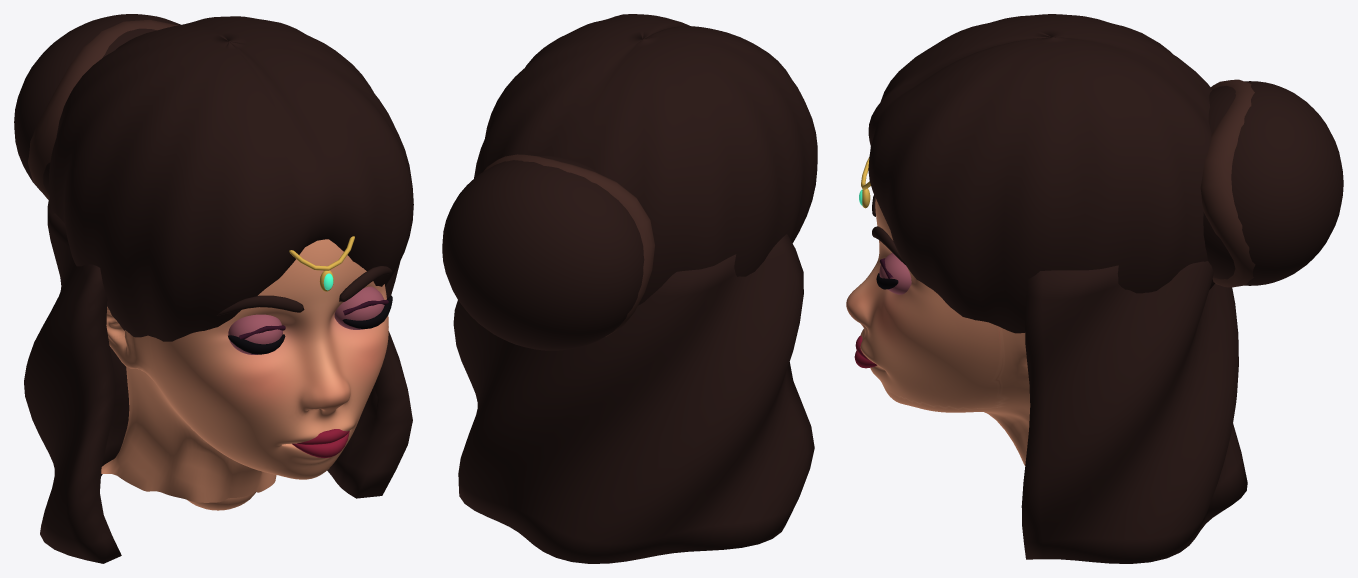
The model's file is char_hr_veronika_head_blink.glb.
3 renders of one model, left to right at view 1: azimuth 30°, elevation 25°; view 2: azimuth 150°, elevation 25°; view 3: azimuth 270°, elevation 25°, orthographic. The views are drawn at different scales.
Parts seen in each view (by area): view 1: char_hr_veronika_head_blink; view 2: char_hr_veronika_head_blink; view 3: char_hr_veronika_head_blink.
Part boxes in pixels (x1,y1,x2,y2): char_hr_veronika_head_blink: (14,14,413,563); char_hr_veronika_head_blink: (442,14,817,563); char_hr_veronika_head_blink: (846,14,1343,563).
Size of the model in its own units: 0.2201 by 0.2918 by 0.2869.
9 materials, 1 textured.
